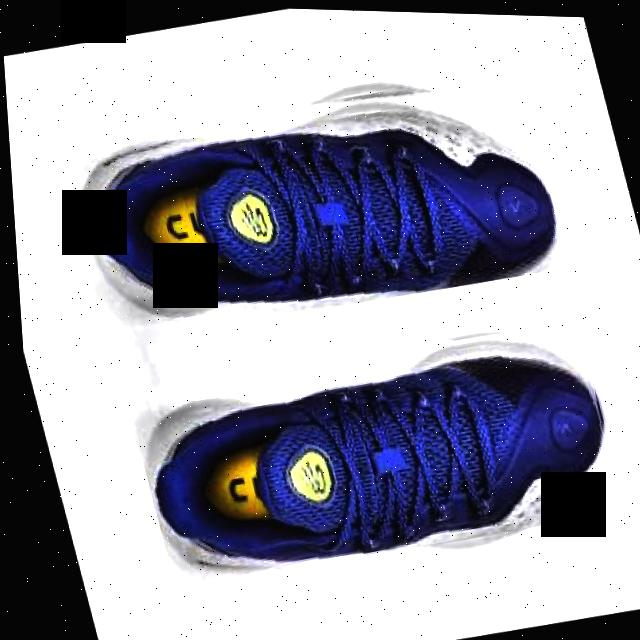shoe: (47, 40, 571, 355), (113, 297, 627, 597)
